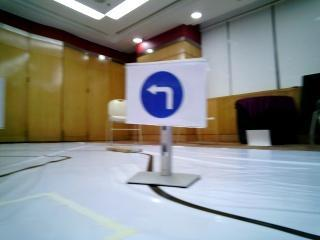left: (127, 73, 202, 123)
